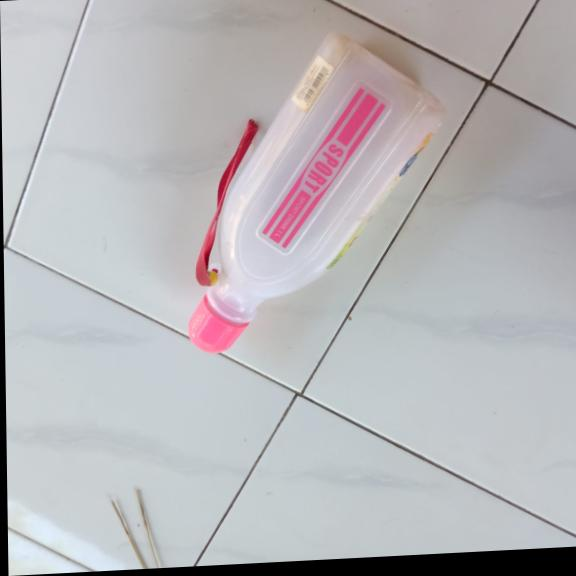Plastik: (182, 21, 454, 354)
